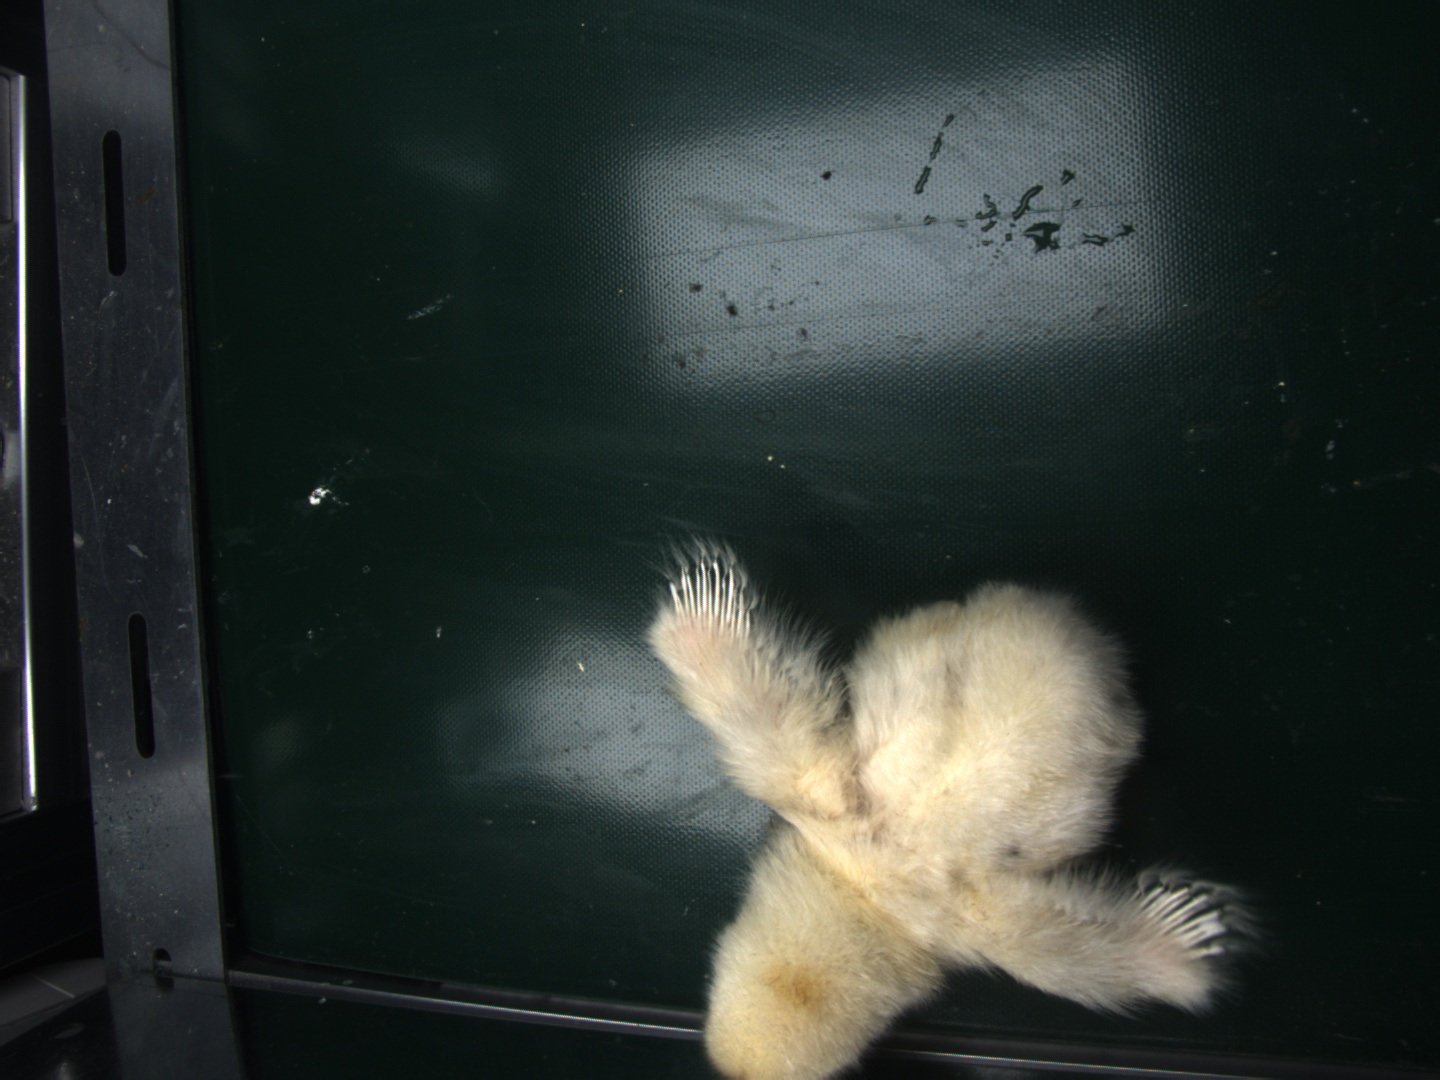male: (1136, 883, 1231, 957), (671, 567, 749, 626)
